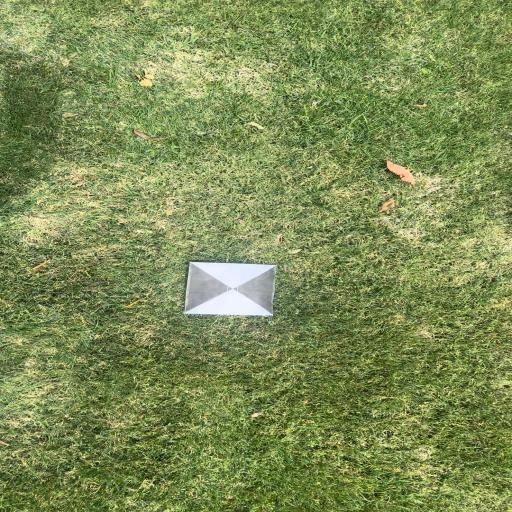target: (184, 262, 277, 315)
